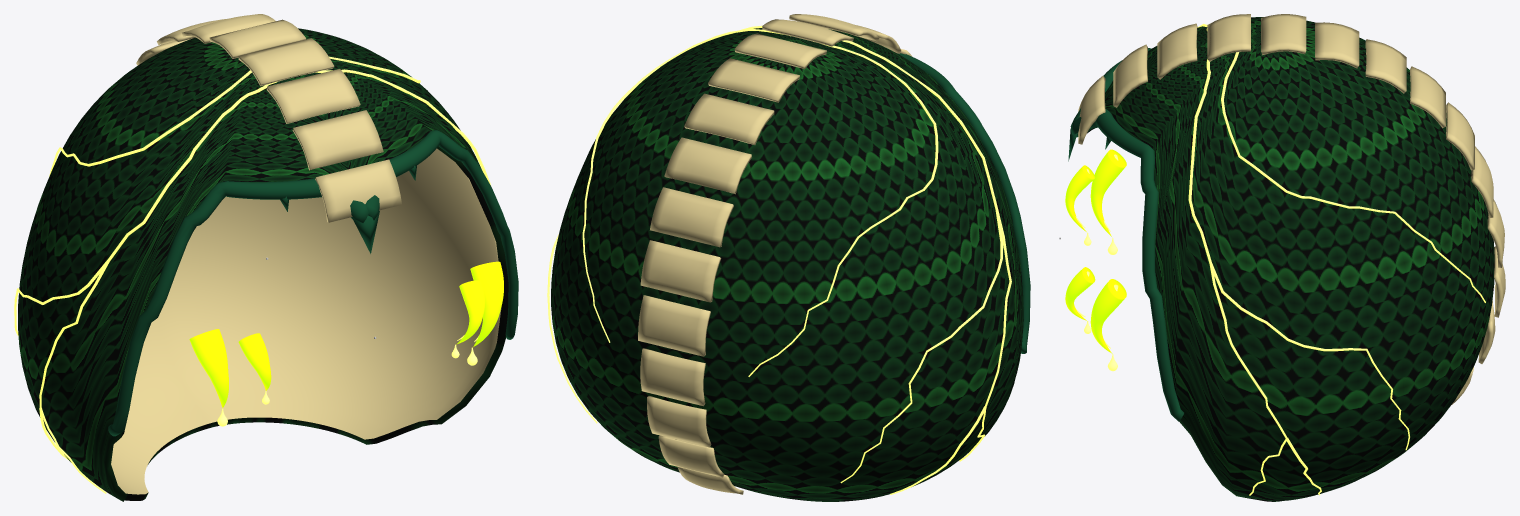
The model's file is VeniCrax_ACCESSOIRES_IMPORT.fbx.
The picture shows the model from 3 angles, left to right: view 1: azimuth 30°, elevation 25°; view 2: azimuth 150°, elevation 25°; view 3: azimuth 270°, elevation 25°; orthographic projection. The views are drawn at different scales.
Parts seen in each view (by area): view 1: V_HelmetInner, V_HelmetShell, V_HelmetCrest, V_HelmetBrow, V_Fangs, V_VenomVeins; view 2: V_HelmetShell, V_HelmetCrest, V_VenomVeins, V_HelmetBrow; view 3: V_HelmetShell, V_HelmetCrest, V_HelmetBrow, V_Fangs, V_VenomVeins.
Part boxes in pixels (<box>): V_HelmetInner: <box>111,148,501,494</box>; V_HelmetShell: <box>18,28,508,501</box>; V_HelmetCrest: <box>136,14,401,222</box>; V_HelmetBrow: <box>108,130,518,436</box>; V_Fangs: <box>189,261,503,407</box>; V_VenomVeins: <box>14,56,490,493</box>; V_HelmetShell: <box>551,28,1023,501</box>; V_HelmetCrest: <box>638,14,912,494</box>; V_VenomVeins: <box>547,25,1011,494</box>; V_HelmetBrow: <box>897,53,1030,353</box>; V_HelmetShell: <box>1087,17,1494,501</box>; V_HelmetCrest: <box>1078,14,1505,404</box>; V_HelmetBrow: <box>1068,48,1183,421</box>; V_Fangs: <box>1065,149,1126,353</box>; V_VenomVeins: <box>1188,24,1485,495</box>.
Size of the model in its own units: 949 by 903 by 866.
6 materials, 1 textured.
